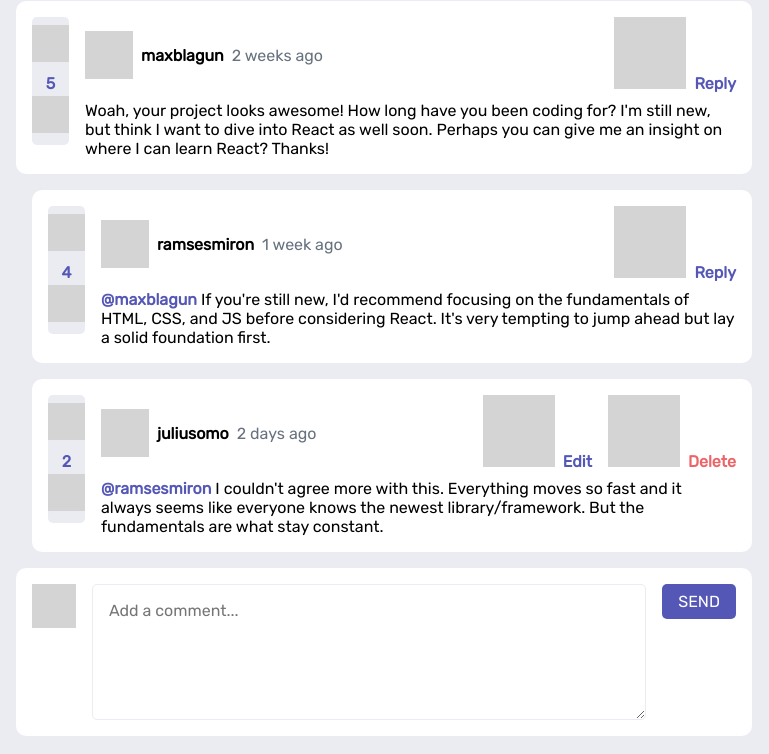
it: App Integration Tests › Editing › should show edit form for current user comment
(page scrolled)
Click the button "Edit" at (537,433), box [483,395,592,471]
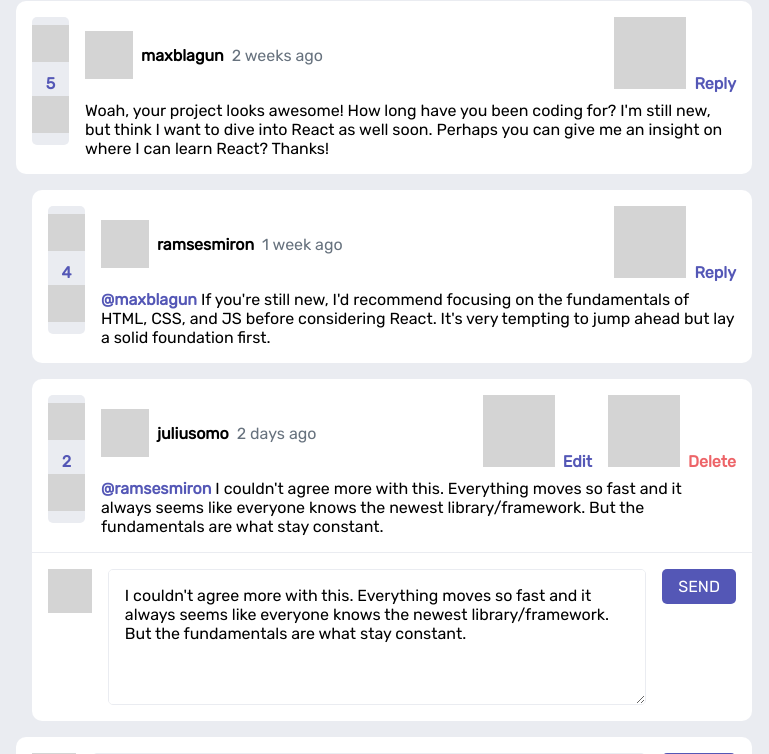
Expected: the text box with placeholder "Add a comment..." is shown, [108,569,646,705]
